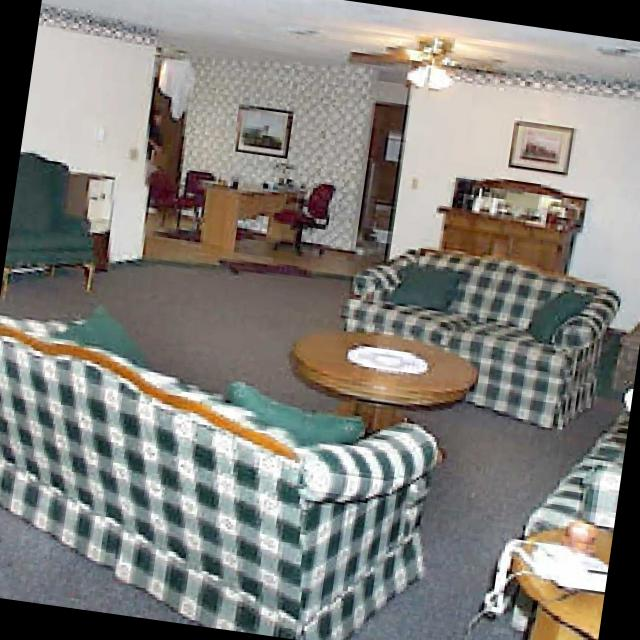2001: (389, 126, 408, 160)
armchair crop: (6, 152, 97, 292)
cabinet door: (72, 166, 123, 266)
cabinets: (153, 56, 197, 185)
ceiling beam: (47, 0, 640, 93)
chair -occluded-: (277, 184, 336, 255), (151, 165, 197, 207), (184, 165, 221, 204)
desk calendar: (200, 178, 311, 250)
door handle: (358, 100, 409, 249)
fan lamp: (351, 31, 511, 89)
lamp crop: (272, 158, 303, 186)
painting crop: (511, 113, 580, 174), (235, 105, 297, 157)
phone charger: (489, 539, 609, 612)
picture crop: (243, 95, 295, 155)
pillow occluded: (228, 379, 371, 444), (56, 302, 153, 362), (528, 287, 594, 339), (397, 265, 466, 305)
place mat: (352, 344, 435, 371)
rug -partially obscured-: (223, 256, 319, 274)
sideboard: (439, 170, 593, 275)
small table part: (296, 326, 484, 433), (514, 527, 613, 640)
sofa bed: (0, 311, 442, 639), (341, 244, 624, 426), (523, 392, 633, 531)
wall outlets: (131, 146, 145, 158), (414, 174, 424, 188)
